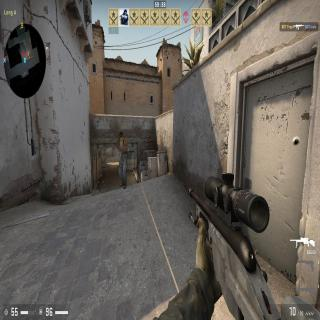T-Body: (116, 131, 129, 188)
T-Head: (119, 132, 124, 139)
